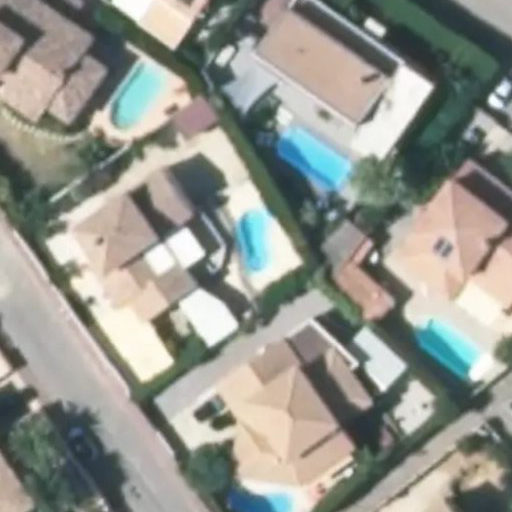pool: (235, 208, 275, 275)
